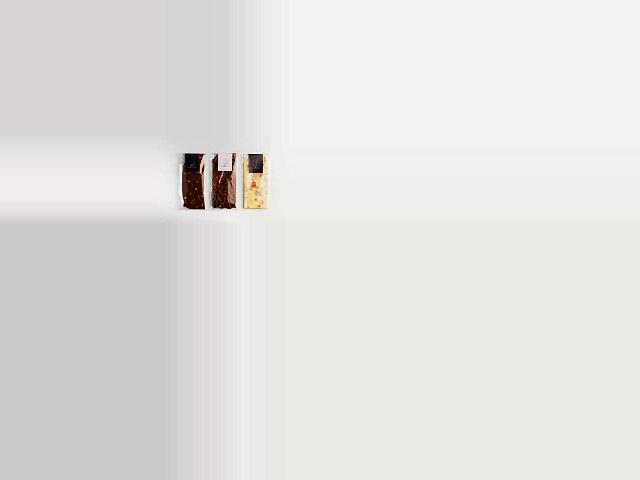chocolate: (172, 154, 207, 215)
